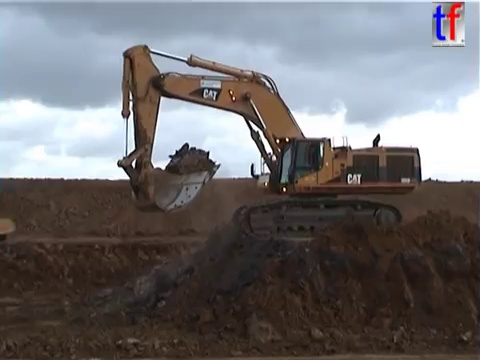excavator: (113, 41, 426, 242)
truck: (1, 215, 18, 244)
